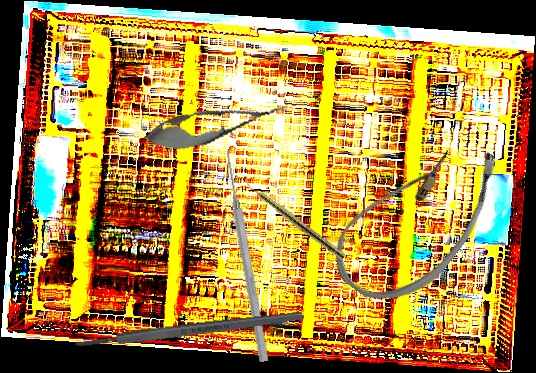Cannula: (319, 110, 517, 326)
Handpiece: (239, 176, 347, 261)
Micro Scissor: (137, 89, 294, 160)
Pusher: (220, 149, 272, 363)
Scalpel Handle: (73, 309, 306, 351)
